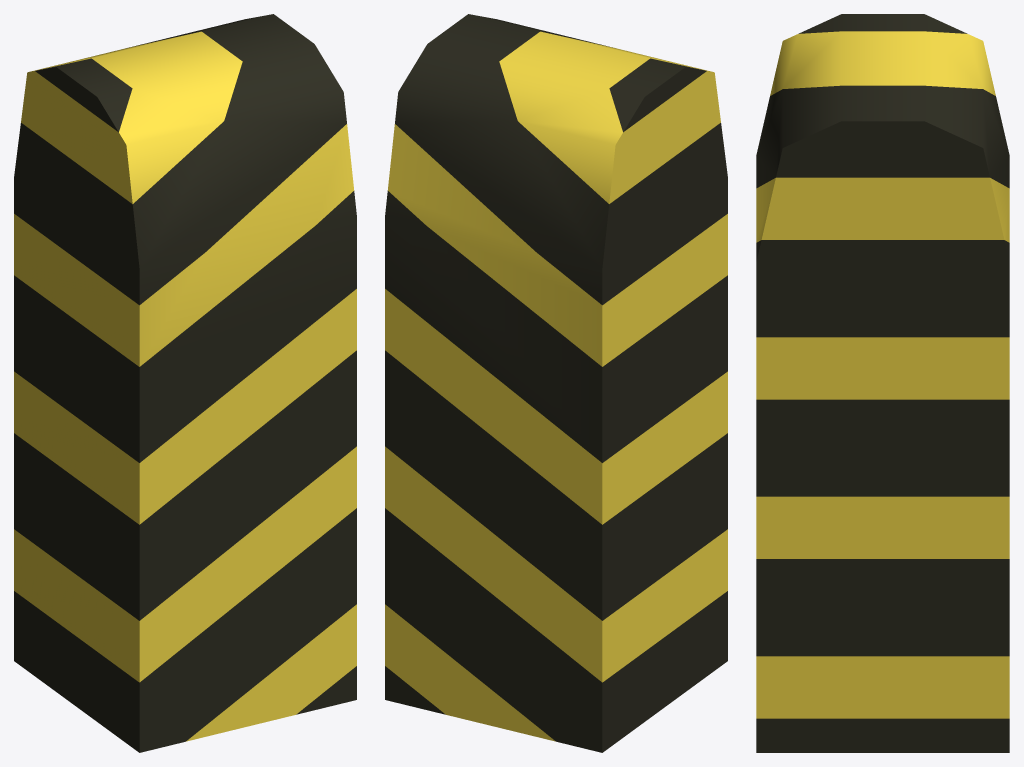
File: Small_Road_Block_003.glb
3 renders of one model, left to right at view 1: azimuth 30°, elevation 25°; view 2: azimuth 150°, elevation 25°; view 3: azimuth 270°, elevation 25°, orthographic.
Visible parts, largest first — view 1: Small Road Block.003; view 2: Small Road Block.003; view 3: Small Road Block.003.
Part boxes in pixels (<box>): Small Road Block.003: <box>14,14,356,752</box>; Small Road Block.003: <box>385,14,727,752</box>; Small Road Block.003: <box>756,14,1009,752</box>.
Size of the model in its own units: 2 by 5.5 by 2.
1 material, 1 textured.
